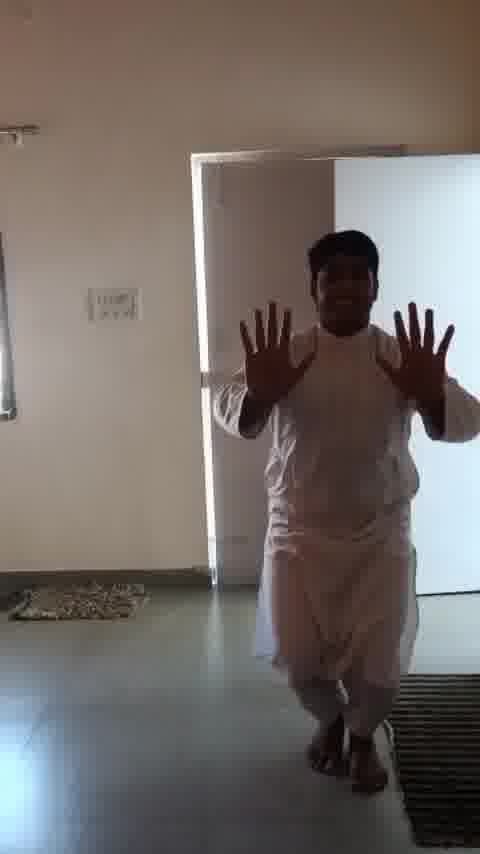duck: (208, 214, 480, 806)
